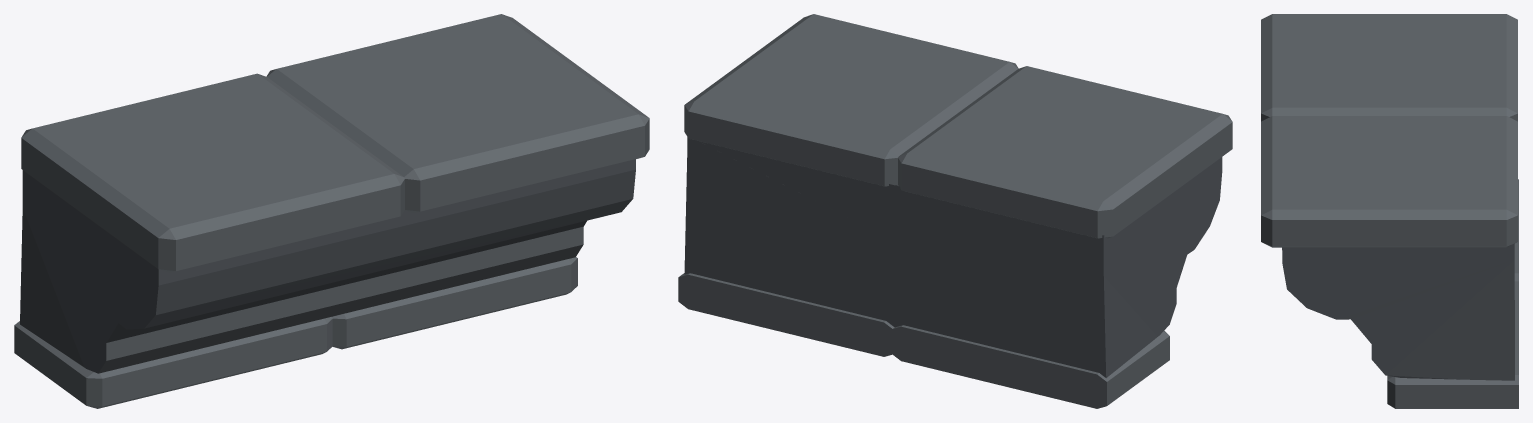
The model's file is MCastle_MasonryFixtures_09.FBX.
3 views of the same model, side by side, from view 1: azimuth 30°, elevation 25°; view 2: azimuth 150°, elevation 25°; view 3: azimuth 270°, elevation 25° (orthographic). The views are drawn at different scales.
Visible parts, largest first — view 1: MCastle_MasonryFixtures_09_LOD0; view 2: MCastle_MasonryFixtures_09_LOD0; view 3: MCastle_MasonryFixtures_09_LOD0.
Part boxes in pixels (bbox=[...]): MCastle_MasonryFixtures_09_LOD0: bbox=[14, 14, 649, 408]; MCastle_MasonryFixtures_09_LOD0: bbox=[678, 14, 1232, 408]; MCastle_MasonryFixtures_09_LOD0: bbox=[1261, 14, 1518, 408].
Bounding box in the file's own units: 4.1 × 1.86 × 2.18.
